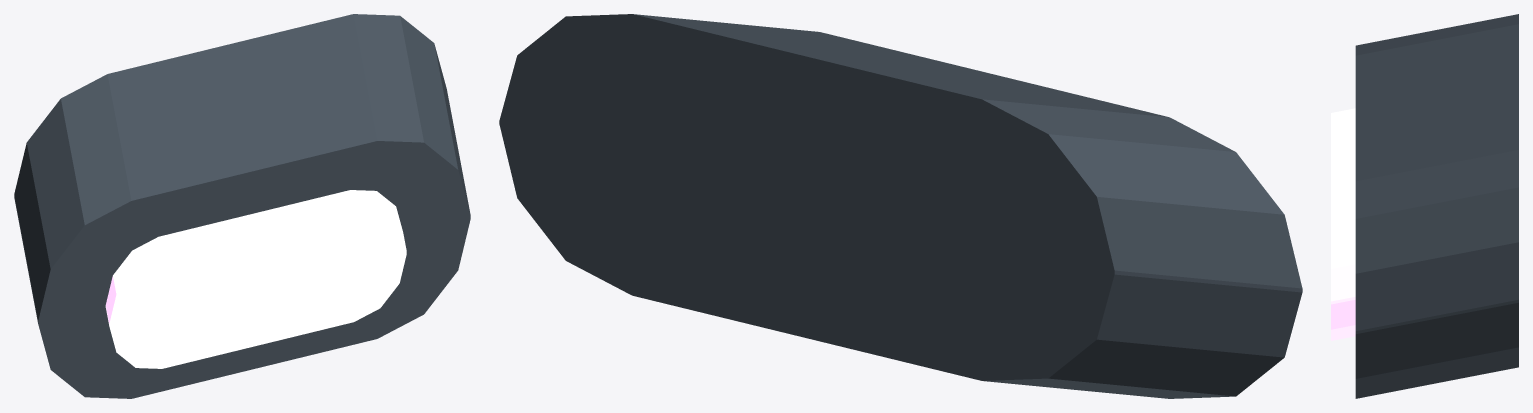
File: Signal_Lamp3D.gltf
The picture shows the model from 3 angles, left to right: view 1: azimuth 30°, elevation 25°; view 2: azimuth 150°, elevation 25°; view 3: azimuth 270°, elevation 25°; orthographic projection. The views are drawn at different scales.
Parts seen in each view (by area): view 1: Signal_Lamp3D_baked; view 2: Signal_Lamp3D_baked; view 3: Signal_Lamp3D_baked.
Boxes of the visible parts, x1,y1,x2,y2 form: Signal_Lamp3D_baked: (14,14,470,398); Signal_Lamp3D_baked: (499,14,1302,398); Signal_Lamp3D_baked: (1331,14,1518,398).
Size of the model in its own units: 0.36 by 0.18 by 0.115.
